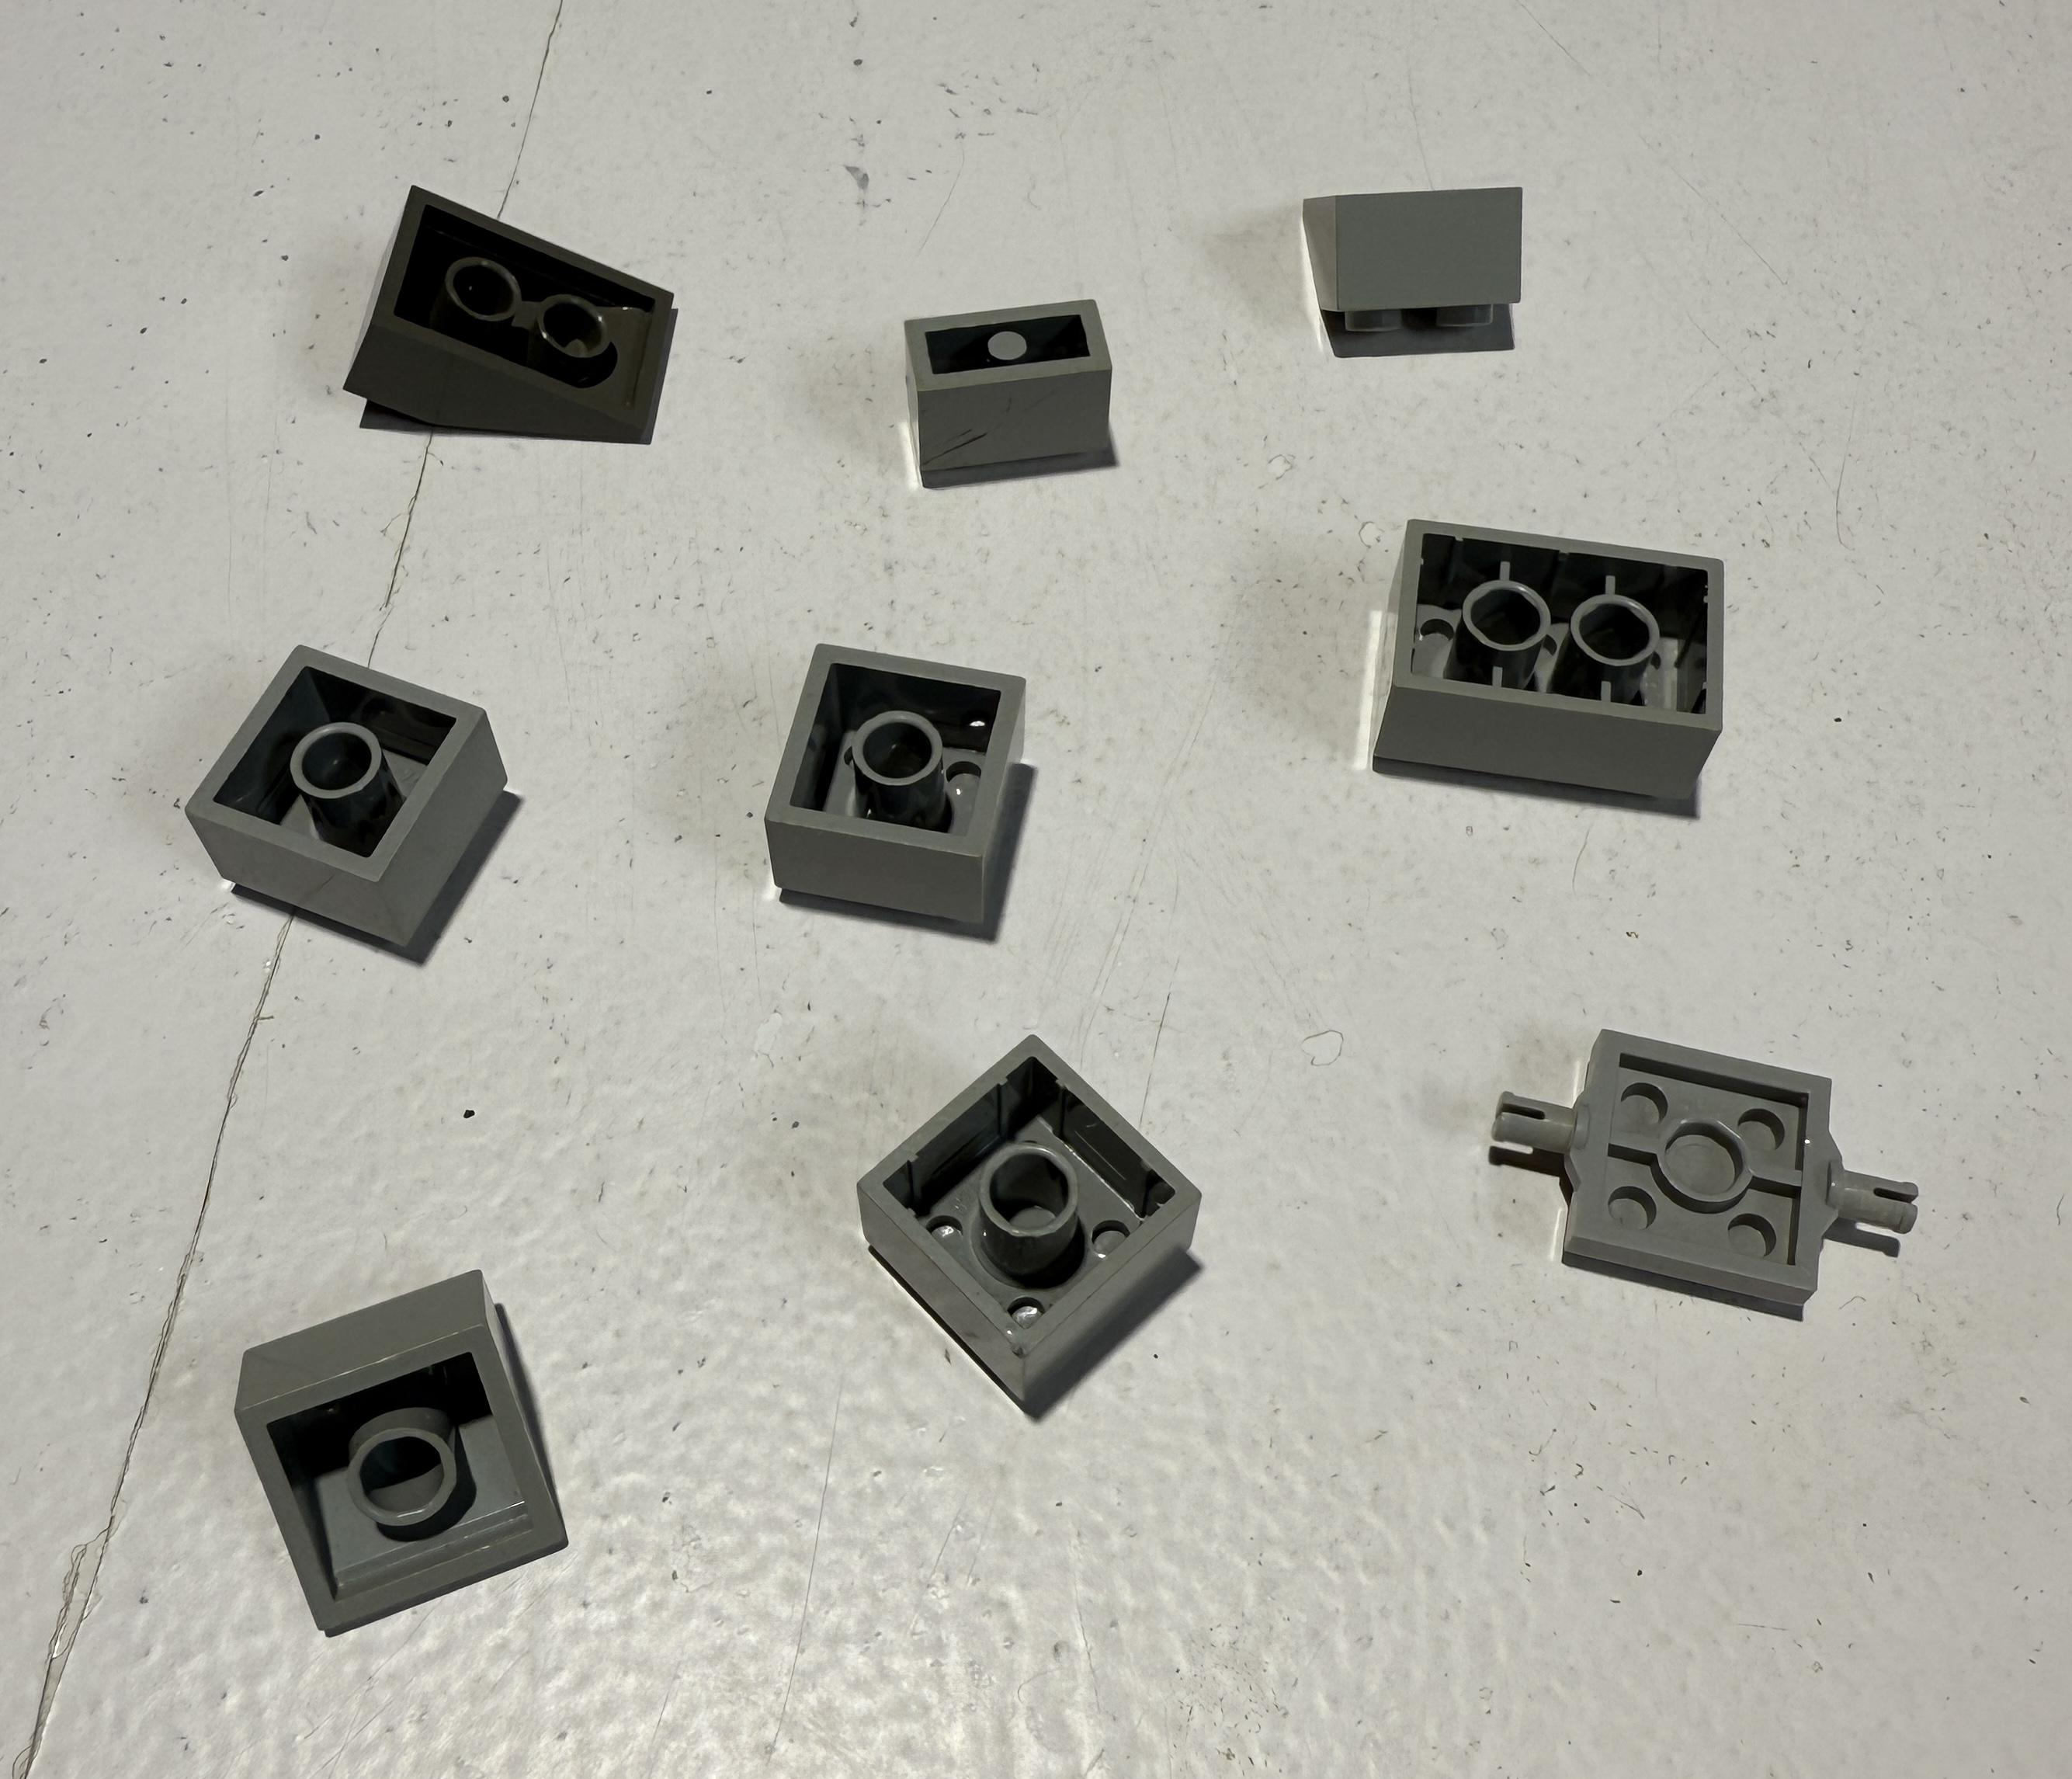Special_02: (206, 1261, 604, 1654), (1281, 166, 1563, 390)
brick_1x2: (872, 284, 1173, 517)
brick_2x2: (835, 1003, 1226, 1432), (153, 619, 546, 970), (738, 629, 1091, 968)
brick_2x3: (1323, 495, 1778, 836)
